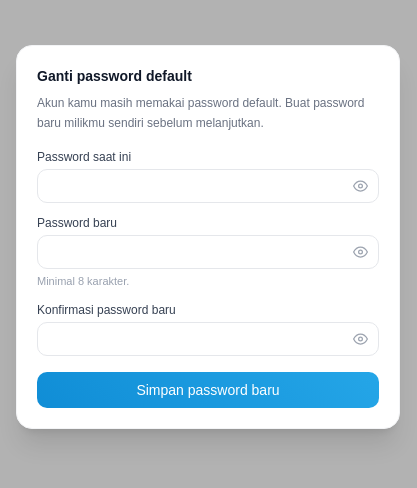
it: ChangePasswordModal › memanggil authStore.changePassword dan menampilkan pesan error jika gagal
The width and height of the screenshot is (417, 488).
Type "default123" into the password field with id "change-pw-current". click: (208, 186)
box: [37,169,379,203]
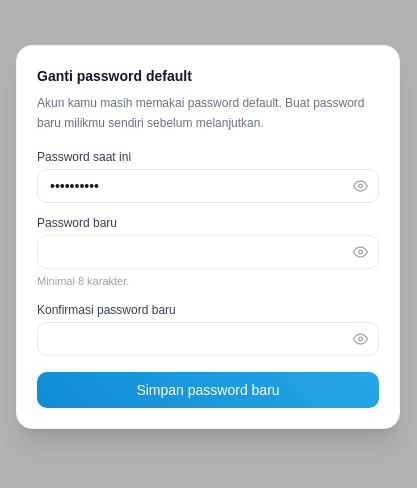
Type "PasswordKuat123!" into the password field with id "change-pw-new". click: (208, 252)
box: [37,235,379,269]
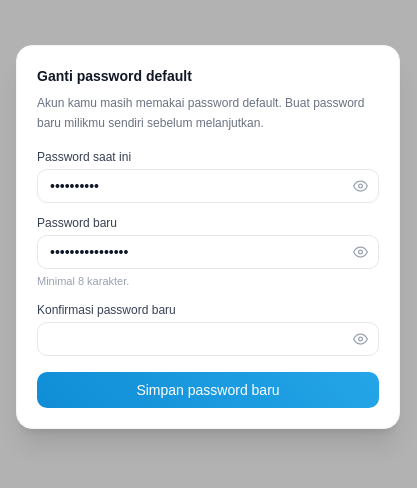
Type "PasswordKuat123!" into the password field with id "change-pw-confirm". click: (208, 339)
box: [37,322,379,356]
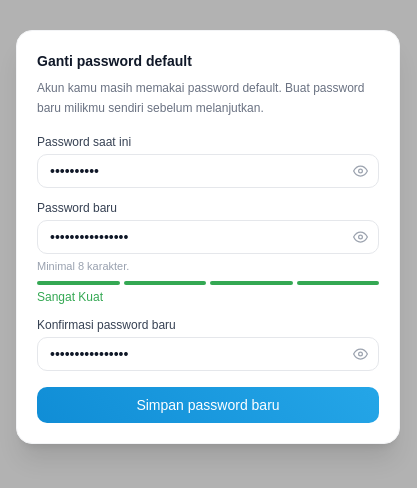
Submit the form, box [37,134,379,423]
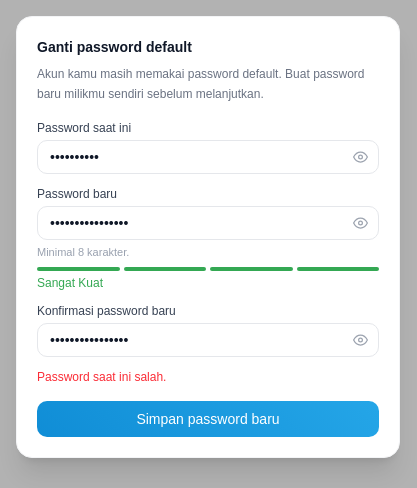
Result: the text "Password saat ini salah." is shown at [37,370,166,384]
